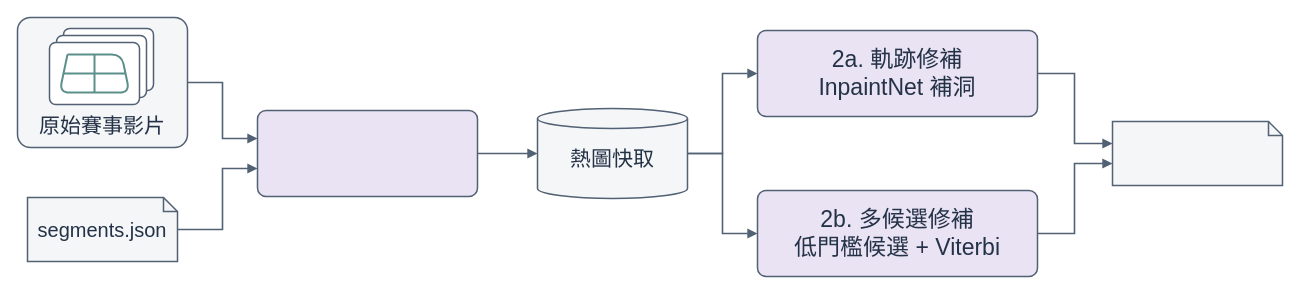
This 1301x295 diagram has some shape labels left out. Each missing label, with the centre of its shape:
"1. 熱圖偵測 （TrackNetV3）" belongs at (367,153).
"shuttle.json" belongs at (1197,153).
